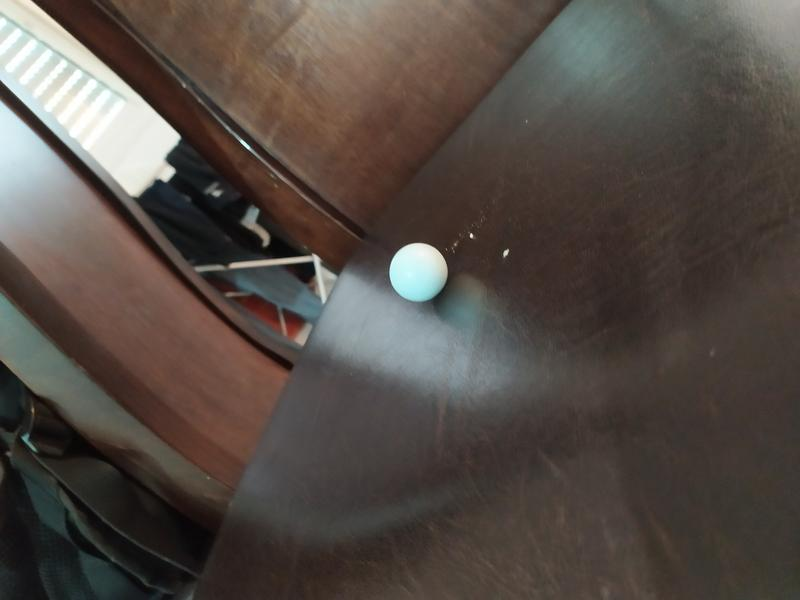Warning: (387, 240, 451, 305)
